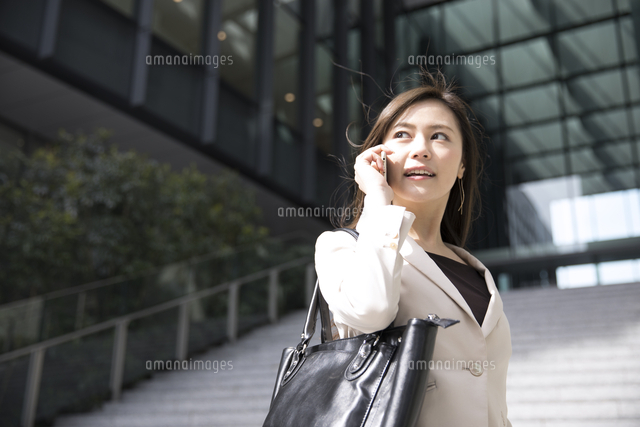phone: (351, 141, 398, 195)
talk: (349, 121, 460, 199)
